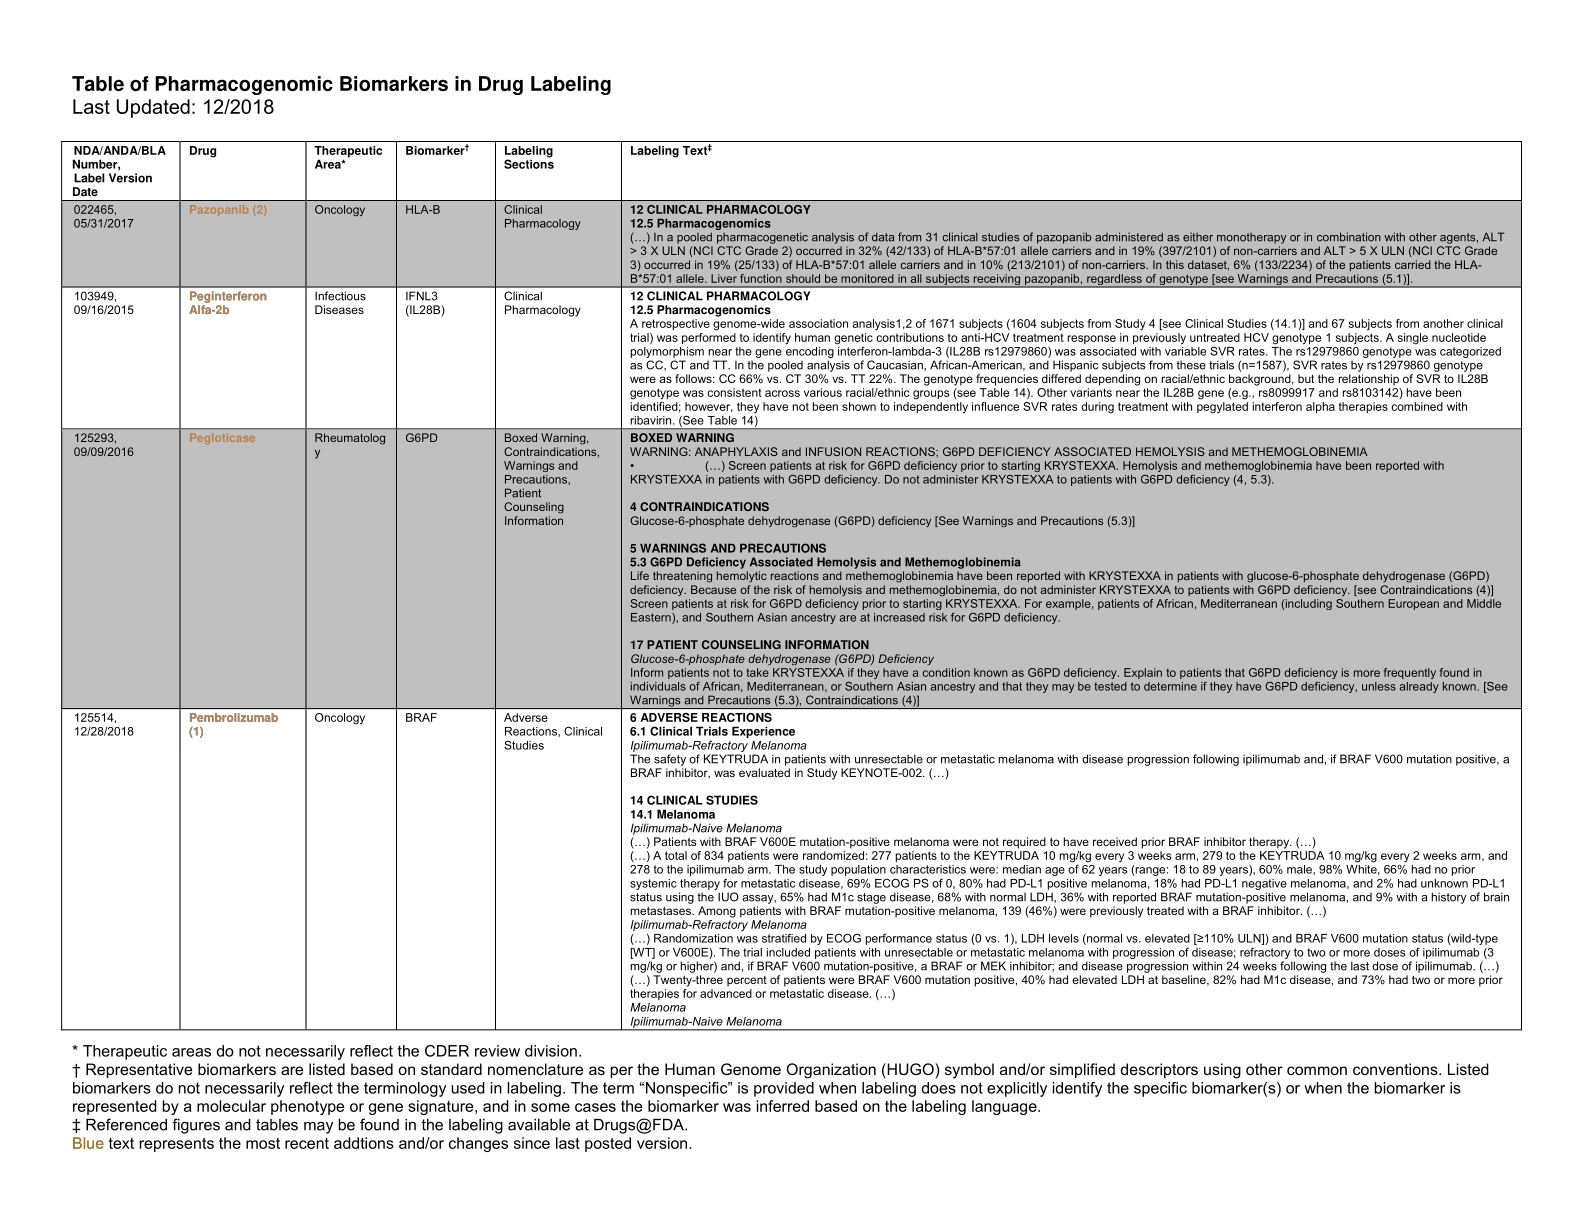full_lined: (49, 131, 1536, 1047)
